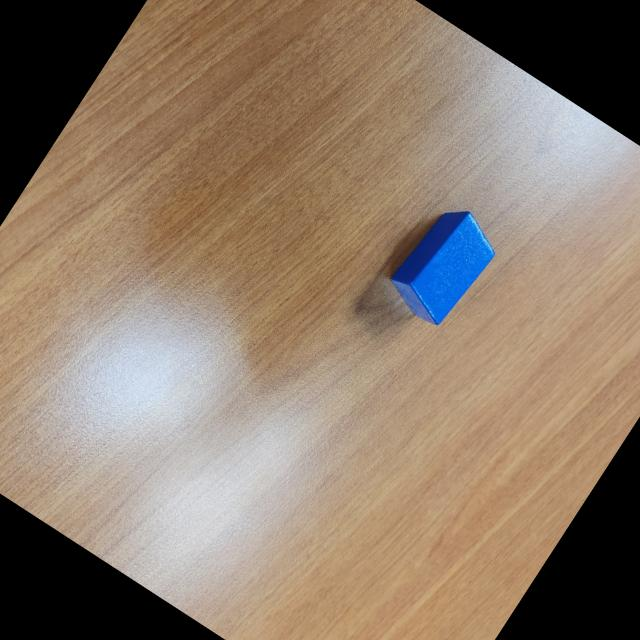blue: (378, 195, 506, 333)
